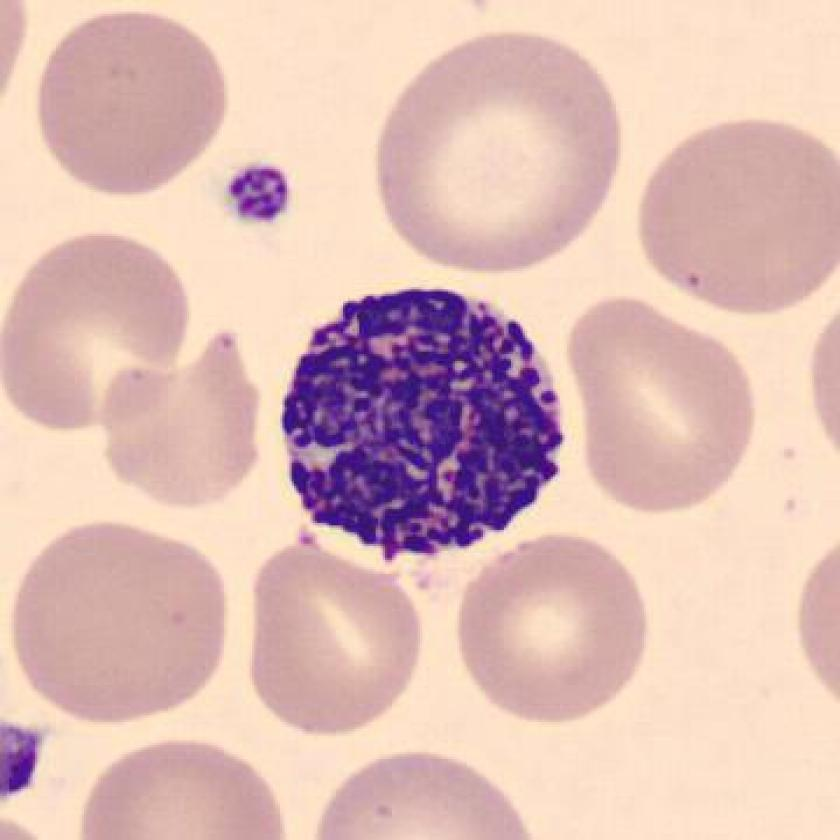basophil: (272, 279, 573, 561)
